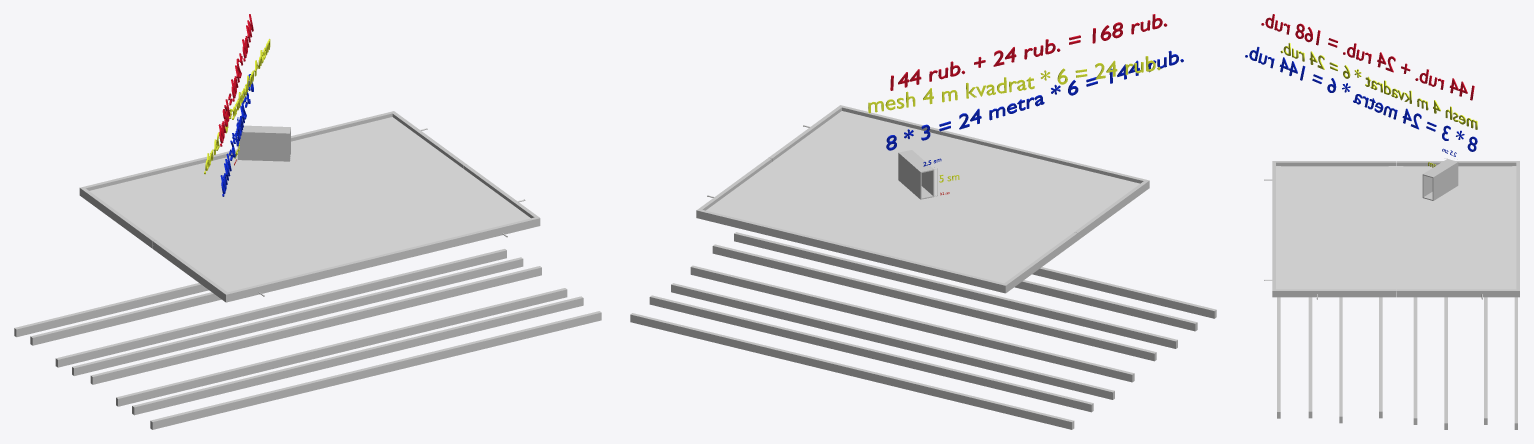
File: chair.glb
The picture shows the model from 3 angles, left to right: view 1: azimuth 30°, elevation 25°; view 2: azimuth 150°, elevation 25°; view 3: azimuth 270°, elevation 25°; orthographic projection. The views are drawn at different scales.
Visible parts, largest first — view 1: Plane, Cylinder.005, Cube.004, Cube.005, Cube.008, Cube.006, Cube.007, Cube.009, Cube.001, Cube.003, Cube.002, Text.005 (+2 smaller); view 2: Plane, Cylinder.005, Cube.001, Cube.005, Cube.006, Cube.003, Cube.004, Cube.007, Cube.009, Cube.008, Text.004, Text.005 (+2 smaller); view 3: Plane, Cylinder.005, Text.003, Text.005, Text.004, Cube.002, Cube.005, Cube.008, Cube.001, Cube.004, Cube.003, Cube.007 (+2 smaller).
Boxes of the visible parts, bbox=[...] form: Plane: bbox=[89, 117, 530, 292]; Cylinder.005: bbox=[79, 111, 540, 302]; Cube.004: bbox=[55, 249, 506, 367]; Cube.005: bbox=[72, 257, 523, 375]; Cube.008: bbox=[132, 296, 583, 415]; Cube.006: bbox=[90, 266, 541, 384]; Cube.007: bbox=[116, 288, 567, 406]; Cube.009: bbox=[150, 311, 601, 429]; Cube.001: bbox=[14, 283, 208, 337]; Cube.003: bbox=[30, 292, 221, 345]; Cube.002: bbox=[237, 125, 290, 161]; Text.005: bbox=[218, 14, 253, 146]; Plane: bbox=[706, 111, 1139, 283]; Cylinder.005: bbox=[696, 105, 1149, 293]; Cube.001: bbox=[630, 313, 1074, 429]; Cube.005: bbox=[690, 265, 1134, 382]; Cube.006: bbox=[712, 244, 1156, 361]; Cube.003: bbox=[649, 295, 1093, 412]; Cube.004: bbox=[671, 283, 1114, 399]; Cube.007: bbox=[734, 232, 1177, 348]; Cube.009: bbox=[1032, 267, 1216, 318]; Cube.008: bbox=[1014, 280, 1197, 331]; Text.004: bbox=[868, 56, 1160, 113]; Text.005: bbox=[890, 14, 1167, 90]; Plane: bbox=[1276, 166, 1516, 291]; Cylinder.005: bbox=[1264, 161, 1519, 299]; Text.003: bbox=[1245, 47, 1477, 151]; Text.005: bbox=[1261, 14, 1474, 100]; Text.004: bbox=[1280, 43, 1477, 129]; Cube.002: bbox=[1422, 158, 1458, 200]; Cube.005: bbox=[1413, 297, 1417, 424]; Cube.008: bbox=[1308, 297, 1312, 418]; Cube.001: bbox=[1514, 297, 1517, 429]; Cube.004: bbox=[1444, 297, 1447, 429]; Cube.003: bbox=[1484, 297, 1487, 424]; Cube.007: bbox=[1339, 297, 1342, 423].
Bounding box in the file's own units: 3.03 × 1.93 × 1.88.
